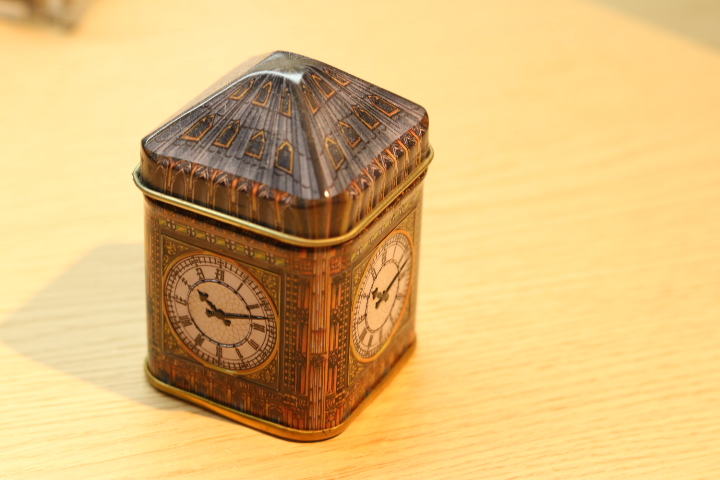Big Ben: (121, 42, 466, 458)
